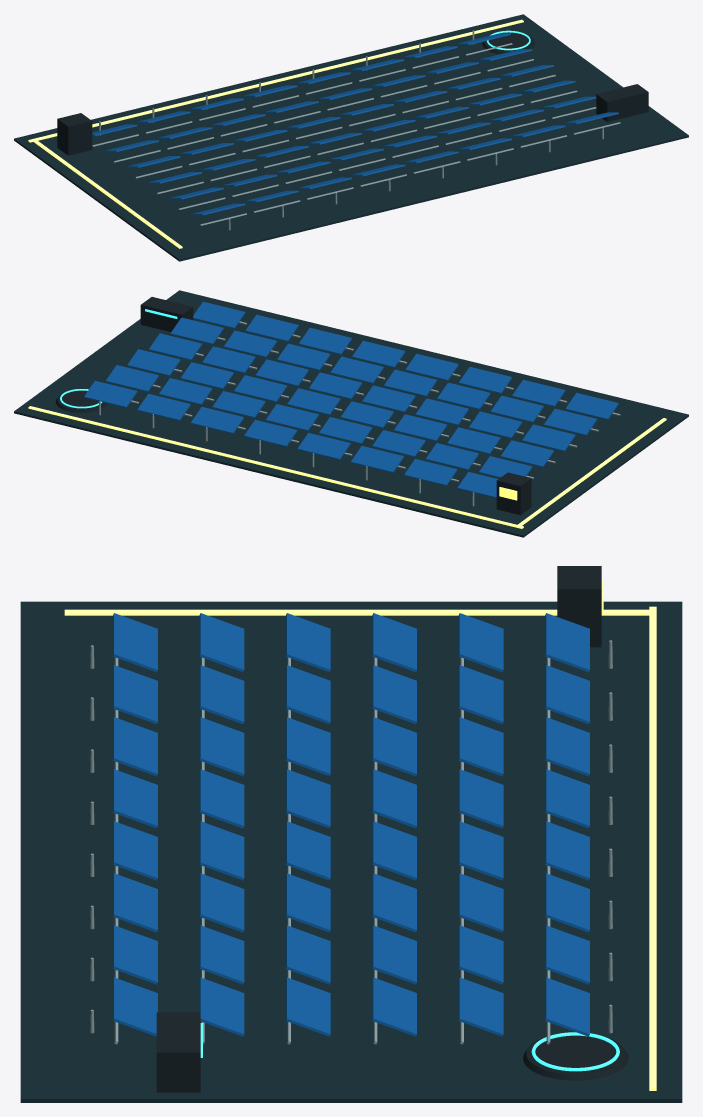
File: infrastructure-solar-farm-cluster.glb
The picture shows the model from 3 angles, top to bottom: view 1: azimuth 30°, elevation 25°; view 2: azimuth 150°, elevation 25°; view 3: azimuth 270°, elevation 25°; orthographic projection. The views are drawn at different scales.
Parts seen in each view (by area): view 1: solar farm service pad, solar farm north cable trench, inverter cabinet east, output meter kiosk, solar farm west feeder trench, maintenance drone dock pad; view 2: solar farm service pad, solar farm north cable trench, inverter cabinet east, output meter kiosk, tilted pv panel r3 c2, tilted pv panel r3 c5, tilted pv panel r3 c7, tilted pv panel r3 c8, tilted pv panel r4 c2, tilted pv panel r4 c5, tilted pv panel r4 c6, tilted pv panel r4 c8 (+42 smaller); view 3: solar farm service pad, solar farm north cable trench, solar farm west feeder trench, inverter cabinet east, maintenance drone dock pad, output meter kiosk, tilted pv panel r2 c1, tilted pv panel r2 c2, tilted pv panel r2 c3, tilted pv panel r2 c4, tilted pv panel r2 c5, tilted pv panel r2 c6 (+42 smaller).
Boxes of the visible parts, box(x1,y1,x2,y2) form: solar farm service pad: box(14, 14, 688, 261); solar farm north cable trench: box(28, 19, 523, 142); inverter cabinet east: box(596, 84, 648, 121); output meter kiosk: box(57, 113, 92, 155); solar farm west feeder trench: box(33, 139, 182, 248); maintenance drone dock pad: box(482, 32, 534, 54); solar farm service pad: box(14, 290, 688, 537); solar farm north cable trench: box(28, 406, 523, 528); inverter cabinet east: box(140, 297, 193, 331); output meter kiosk: box(496, 472, 531, 514); tilted pv panel r3 c2: box(447, 427, 500, 454); tilted pv panel r3 c5: box(287, 388, 340, 415); tilted pv panel r3 c7: box(180, 362, 233, 389); tilted pv panel r3 c8: box(127, 349, 180, 376); tilted pv panel r4 c2: box(469, 411, 522, 438); tilted pv panel r4 c5: box(309, 372, 362, 399); tilted pv panel r4 c6: box(255, 359, 308, 386); tilted pv panel r4 c8: box(149, 333, 202, 360); solar farm service pad: box(20, 601, 682, 1102); solar farm north cable trench: box(649, 606, 656, 1090); solar farm west feeder trench: box(64, 609, 652, 615); inverter cabinet east: box(156, 1012, 200, 1092); maintenance drone dock pad: box(523, 1035, 628, 1080); output meter kiosk: box(557, 566, 601, 647); tilted pv panel r2 c1: box(458, 613, 503, 672); tilted pv panel r2 c2: box(458, 665, 503, 724); tilted pv panel r2 c3: box(458, 717, 503, 776); tilted pv panel r2 c4: box(458, 769, 503, 828); tilted pv panel r2 c5: box(458, 821, 503, 880); tilted pv panel r2 c6: box(458, 873, 503, 932).
Size of the model in its own units: 32 by 1.86 by 18.
